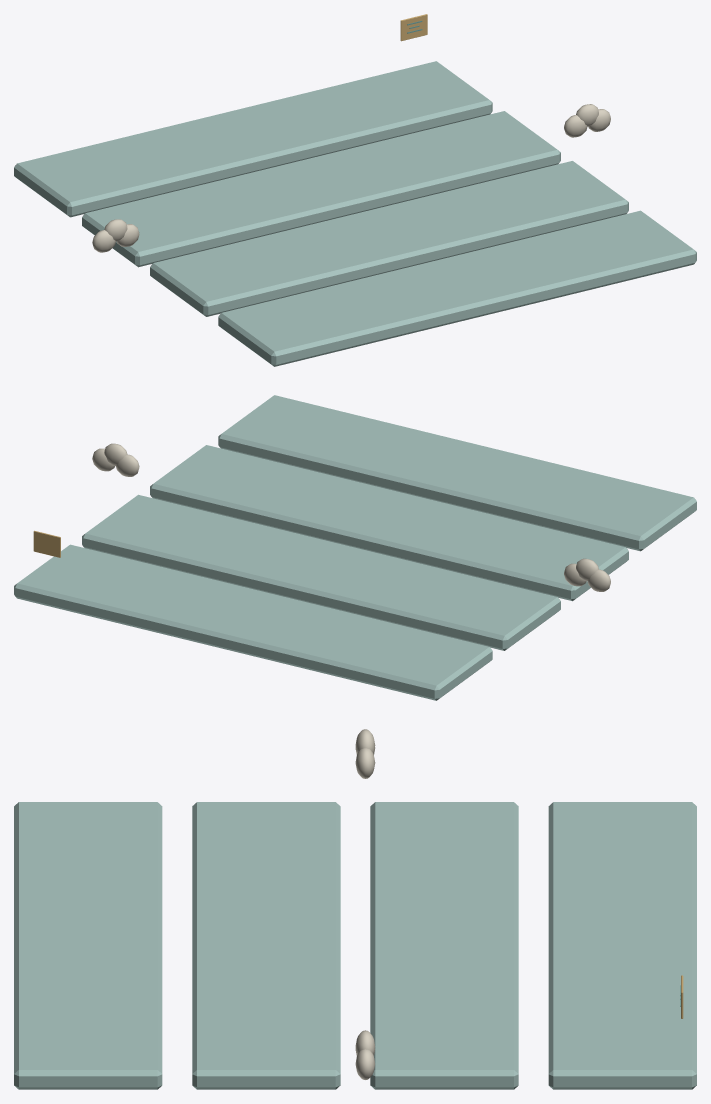
The model's file is eq05_level_2.glb.
The picture shows the model from 3 angles, top to bottom: view 1: azimuth 30°, elevation 25°; view 2: azimuth 150°, elevation 25°; view 3: azimuth 270°, elevation 25°; orthographic projection. The views are drawn at different scales.
Parts seen in each view (by area): view 1: eq05_level_2; view 2: eq05_level_2; view 3: eq05_level_2.
Part boxes in pixels (box(x1,y1,x2,y2)): eq05_level_2: box(14, 14, 696, 366); eq05_level_2: box(14, 395, 696, 700); eq05_level_2: box(14, 729, 696, 1089).
Bounding box in the file's own units: 3.56 × 0.4475 × 3.11.
